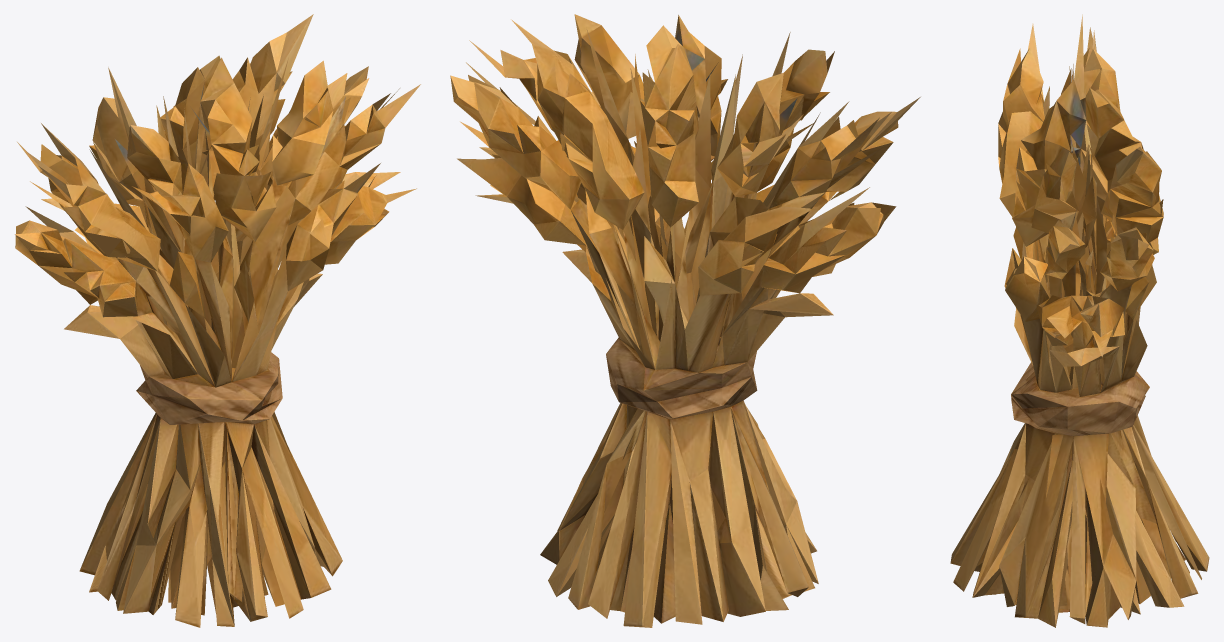
Rendered from barley-sheaf.glb.
3 renders of one model, left to right at view 1: azimuth 30°, elevation 25°; view 2: azimuth 150°, elevation 25°; view 3: azimuth 270°, elevation 25°, orthographic. The views are drawn at different scales.
Size of the model in its own units: 1.48 by 1.86 by 0.8476.
1 material, 1 textured.
